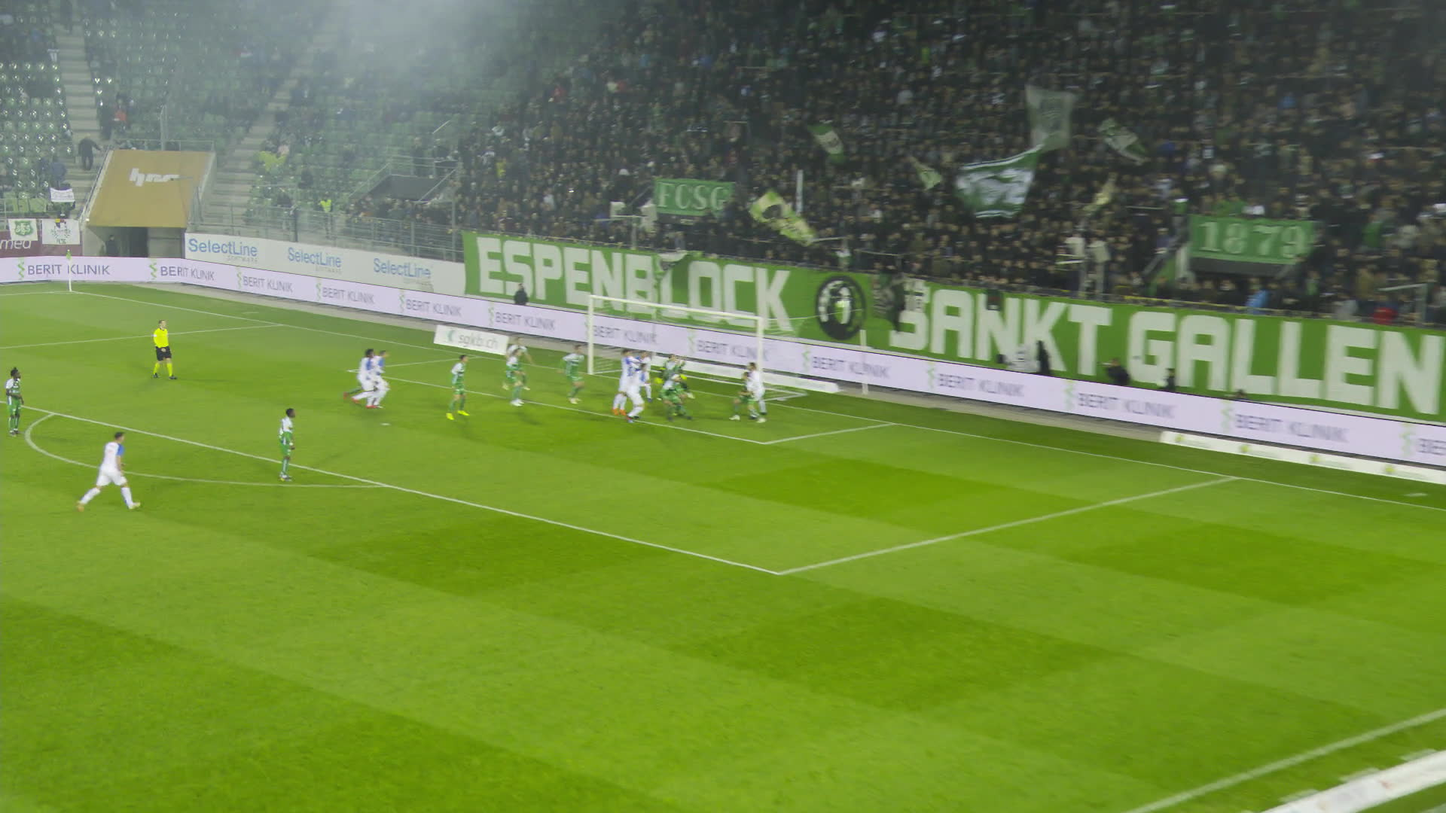ball: (848, 298, 860, 307)
player: (78, 431, 133, 510), (560, 346, 593, 404), (727, 369, 761, 422), (444, 354, 471, 420), (498, 335, 529, 388), (625, 364, 652, 424), (343, 358, 383, 398), (611, 349, 635, 415), (657, 373, 689, 421), (661, 349, 688, 402), (740, 361, 767, 414), (368, 349, 392, 405), (4, 366, 23, 435), (277, 407, 294, 480), (659, 361, 684, 409), (505, 347, 525, 406), (355, 348, 374, 408), (630, 349, 650, 402)
referee: (149, 318, 175, 378)
